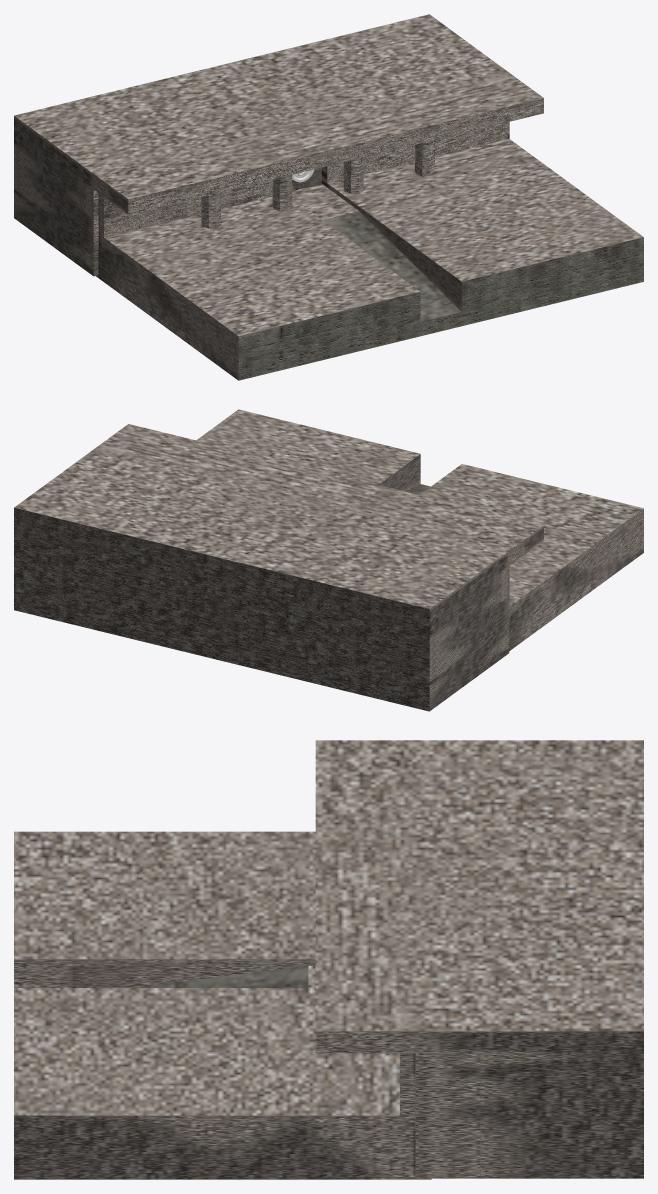
The model's file is temple_entrance.fbx.
The picture shows the model from 3 angles, top to bottom: view 1: azimuth 30°, elevation 25°; view 2: azimuth 150°, elevation 25°; view 3: azimuth 270°, elevation 25°; orthographic projection. The views are drawn at different scales.
Visible parts, largest first — view 1: Cube; view 2: Cube; view 3: Cube.
Part boxes in pixels (left/top/right/bottom): Cube: left=14, top=14, right=643, bottom=380; Cube: left=14, top=409, right=643, bottom=711; Cube: left=14, top=740, right=643, bottom=1179.
Bounding box in the file's own units: 2175 × 528 × 1990.
1 material, 1 textured.
